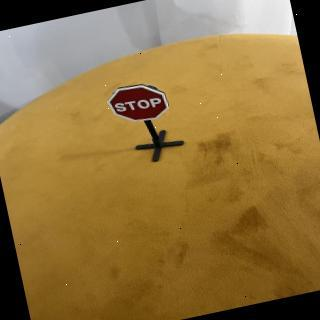sign_stop: (104, 77, 174, 131)
